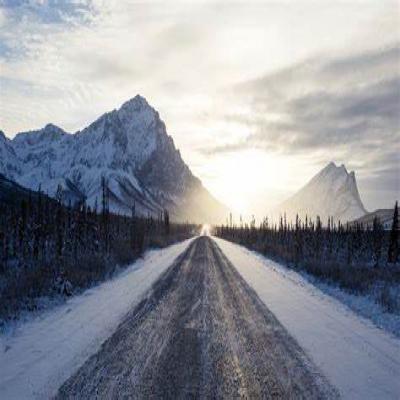iced-road: (56, 236, 340, 399)
